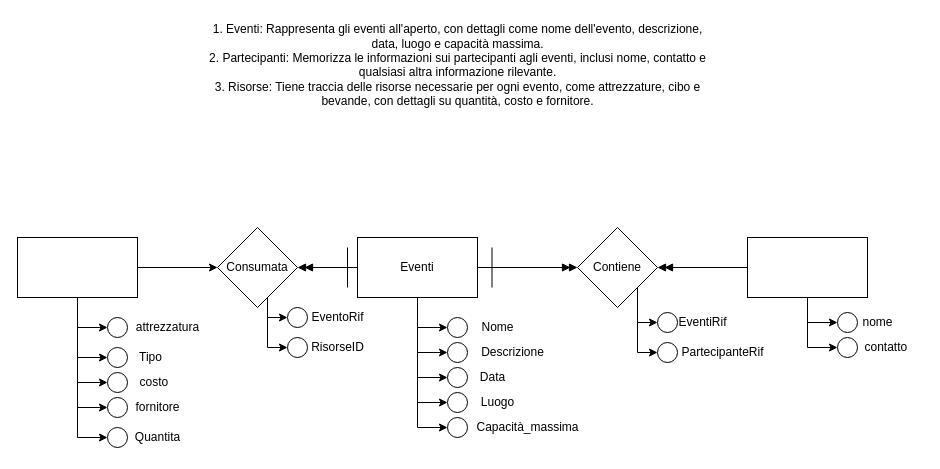
Some shapes in this 940 by 469 pixel diagram are drawn without their labels. The shapes that lost their labels are listed below. From the top down, each one's box as (x1, y1, x2, y2) in pixels, then its label:
(16, 236, 138, 298): Risorse
(746, 236, 868, 298): Partecipanti
